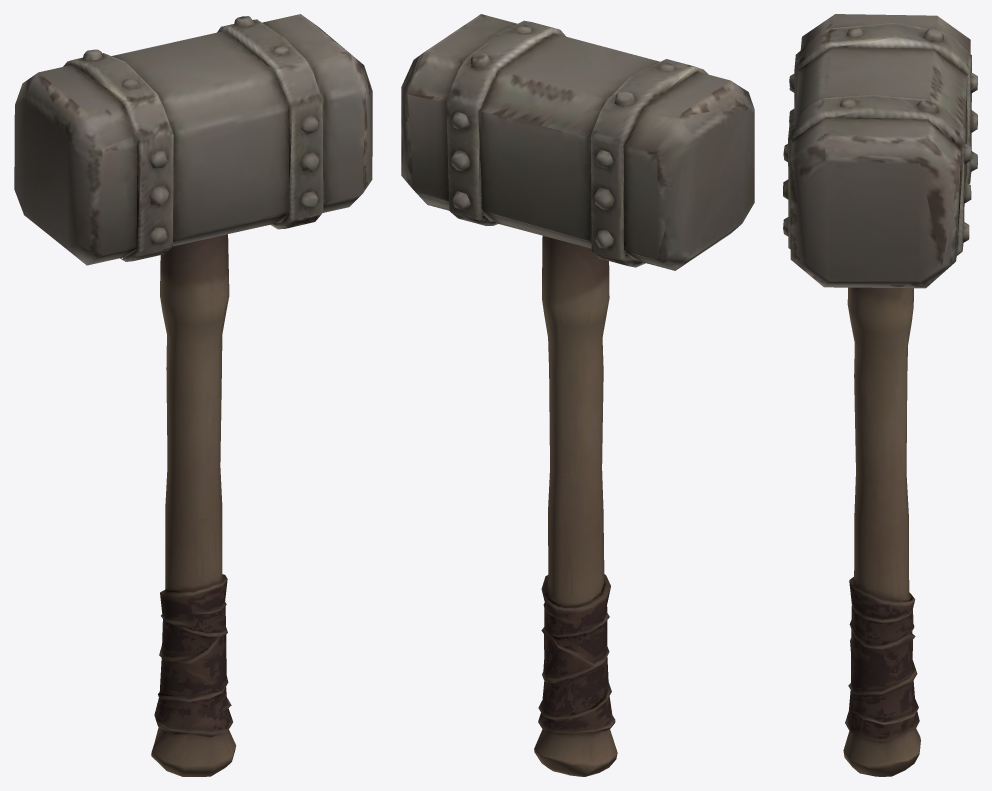
The model's file is hammer_wynd_2h_starter.glb.
The picture shows the model from 3 angles, left to right: view 1: azimuth 30°, elevation 25°; view 2: azimuth 150°, elevation 25°; view 3: azimuth 270°, elevation 25°; orthographic projection. The views are drawn at different scales.
Parts seen in each view (by area): view 1: tripo_node_9cd1b8bf-214c-4f95-8fef-001042044131; view 2: tripo_node_9cd1b8bf-214c-4f95-8fef-001042044131; view 3: tripo_node_9cd1b8bf-214c-4f95-8fef-001042044131.
Part boxes in pixels (x1,y1,x2,y2): tripo_node_9cd1b8bf-214c-4f95-8fef-001042044131: [14, 14, 372, 776]; tripo_node_9cd1b8bf-214c-4f95-8fef-001042044131: [401, 14, 754, 776]; tripo_node_9cd1b8bf-214c-4f95-8fef-001042044131: [783, 14, 977, 776].
Size of the model in its own units: 0.6205 by 1.45 by 0.365.
Materials: 1 (1 with a texture image).
